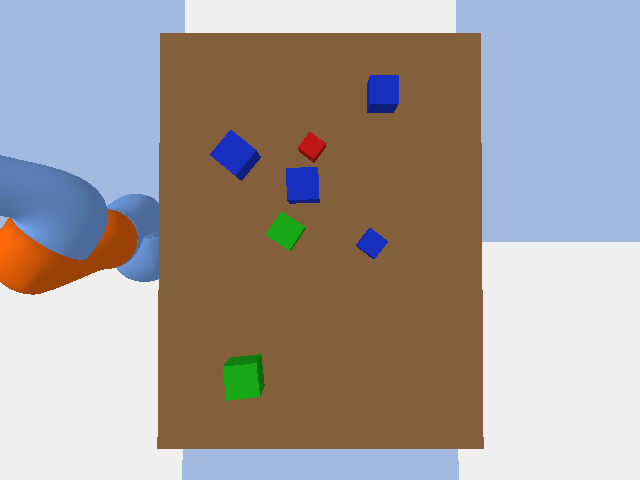blue_obj: (210, 130, 260, 180), (286, 167, 319, 203), (367, 75, 398, 112), (355, 228, 387, 258)
green_obj: (223, 354, 264, 400), (266, 211, 305, 250)
red_obj: (298, 132, 325, 162)
